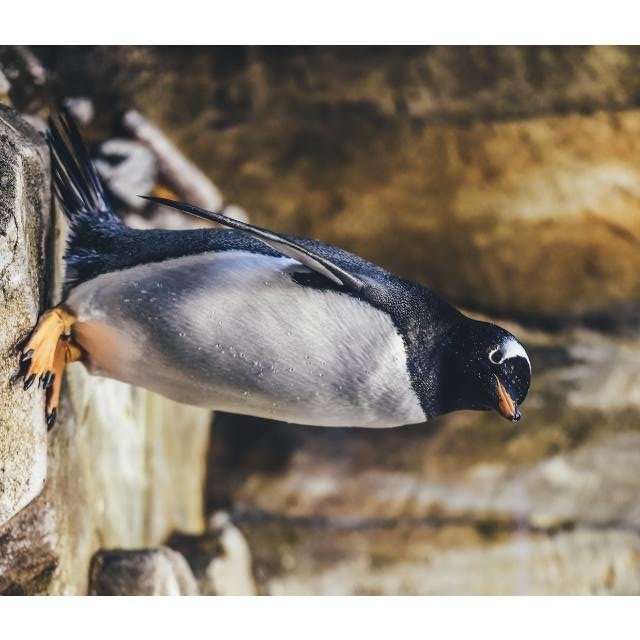penguin: (17, 105, 532, 432)
